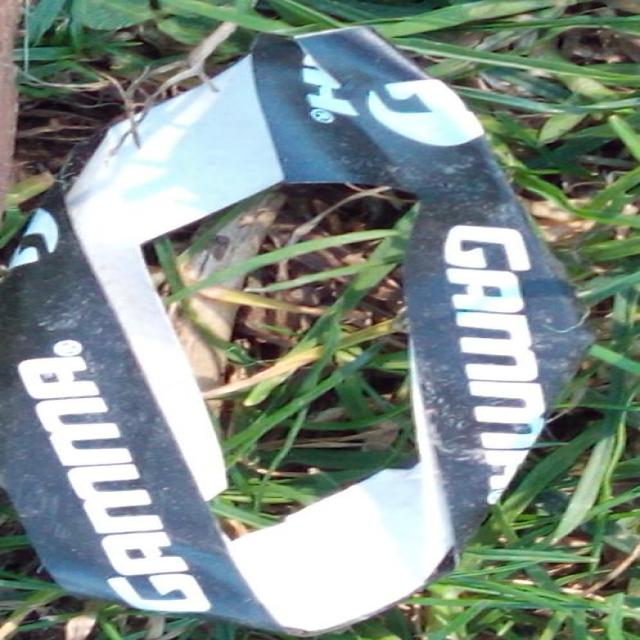litter: (0, 23, 596, 633)
